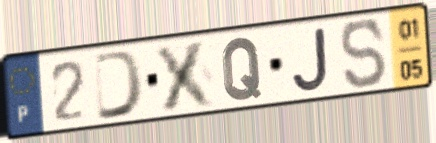2: (49, 59, 87, 125)
D: (92, 47, 148, 123)
J: (289, 25, 331, 94)
Q: (220, 35, 264, 103)
S: (338, 16, 390, 91)
X: (152, 37, 220, 114)
